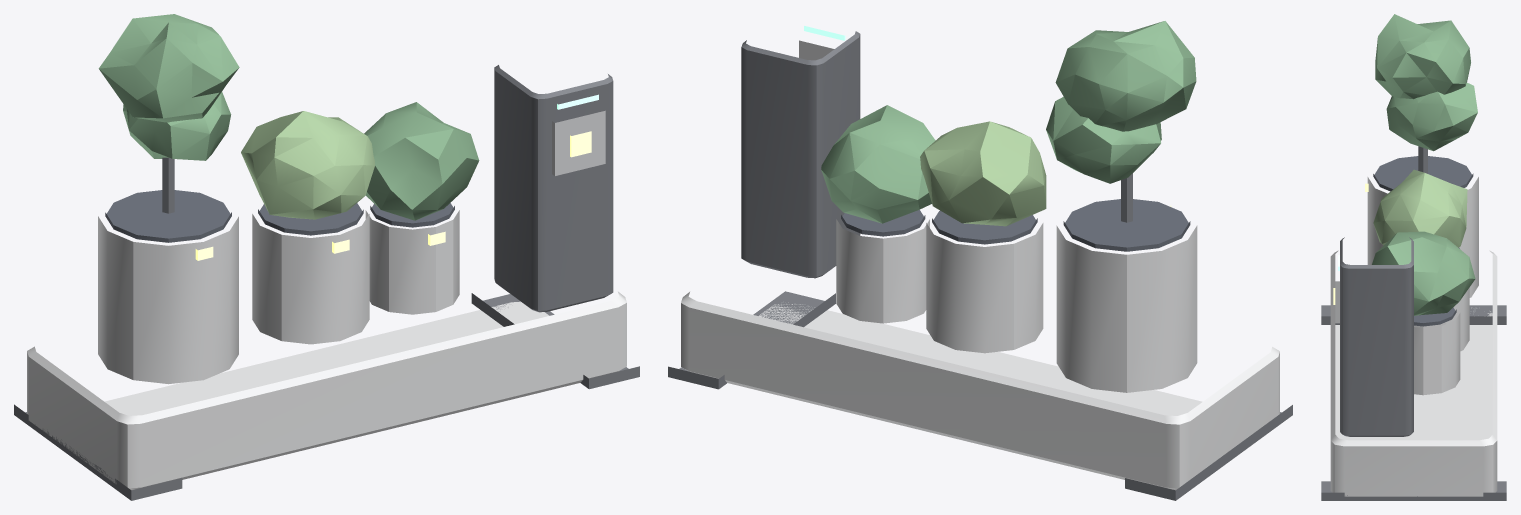
The model's file is iter_05.glb.
The picture shows the model from 3 angles, left to right: view 1: azimuth 30°, elevation 25°; view 2: azimuth 150°, elevation 25°; view 3: azimuth 270°, elevation 25°; orthographic projection. The views are drawn at different scales.
Parts seen in each view (by area): view 1: Plinth, Pots, Foliage, Port_Post, Foliage_Light, Grow_Lids, Plinth_Clamps, Sprocket_Port, Stems; view 2: Plinth, Pots, Foliage, Port_Post, Foliage_Light, Grow_Lids, Plinth_Clamps; view 3: Plinth, Foliage, Port_Post, Pots, Foliage_Light, Grow_Lids, Plinth_Clamps, Stems.
Boxes of the visible parts, left/top/right/bottom form: Plinth: left=27, top=291, right=626, bottom=490; Pots: left=98, top=210, right=459, bottom=384; Foliage: left=98, top=14, right=479, bottom=220; Port_Post: left=494, top=65, right=613, bottom=312; Foliage_Light: left=241, top=111, right=374, bottom=219; Grow_Lids: left=105, top=190, right=454, bottom=242; Plinth_Clamps: left=14, top=293, right=639, bottom=500; Sprocket_Port: left=552, top=110, right=605, bottom=175; Stems: left=162, top=157, right=174, bottom=213; Plinth: left=681, top=292, right=1279, bottom=490; Pots: left=836, top=219, right=1197, bottom=392; Foliage: left=821, top=21, right=1196, bottom=223; Port_Post: left=741, top=31, right=860, bottom=278; Foliage_Light: left=920, top=121, right=1046, bottom=226; Grow_Lids: left=841, top=199, right=1190, bottom=251; Plinth_Clamps: left=668, top=291, right=1292, bottom=500; Plinth: left=1330, top=250, right=1497, bottom=496; Foliage: left=1372, top=14, right=1477, bottom=315; Port_Post: left=1340, top=237, right=1413, bottom=436; Pots: left=1367, top=177, right=1478, bottom=395; Foliage_Light: left=1373, top=169, right=1467, bottom=247; Grow_Lids: left=1373, top=156, right=1473, bottom=326; Plinth_Clamps: left=1321, top=305, right=1506, bottom=500; Stems: left=1418, top=146, right=1427, bottom=173.
Size of the model in its own units: 1 by 0.7688 by 0.4.
